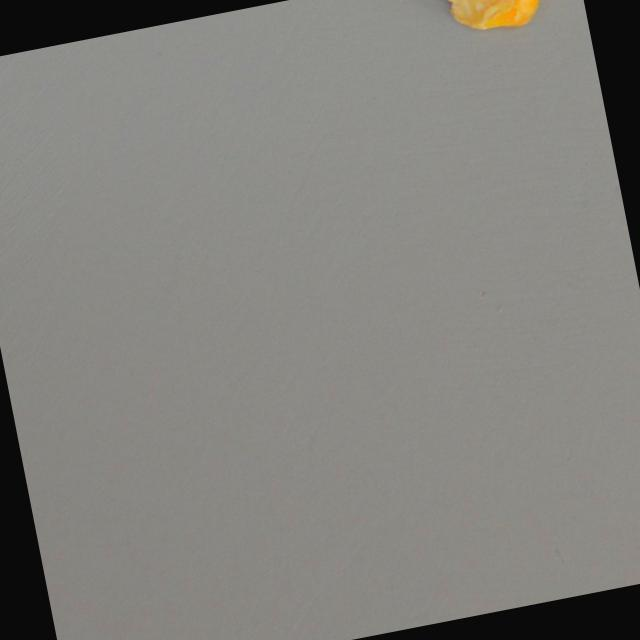pelicula: (436, 0, 552, 45)
